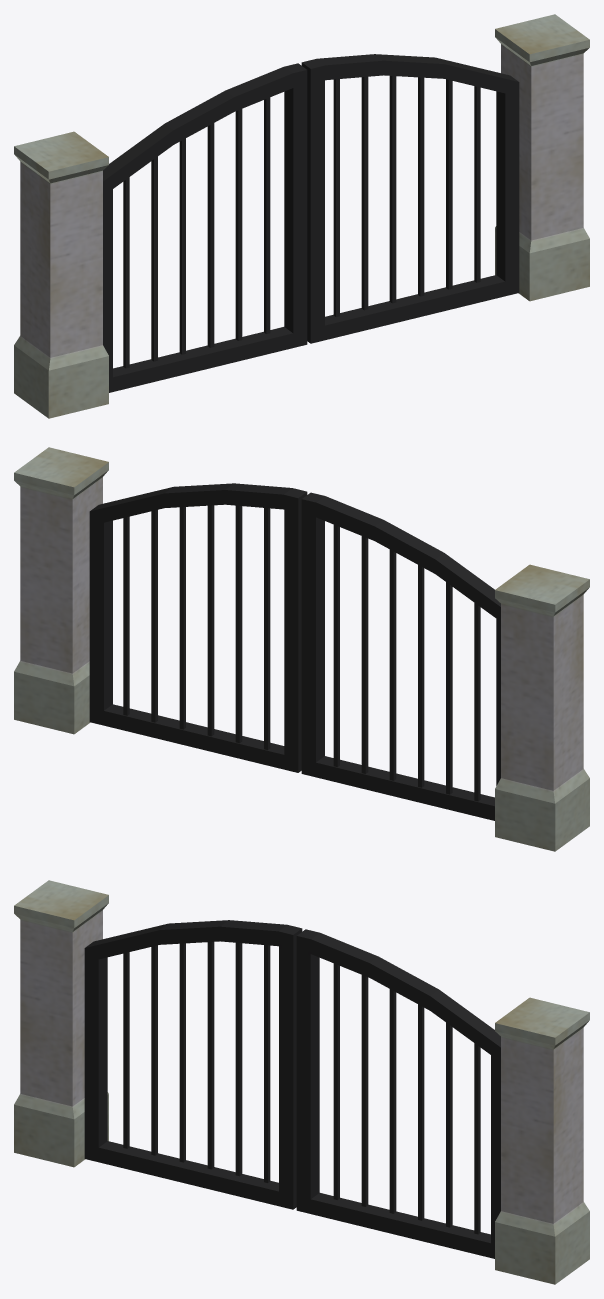
Rendered from gg_Gate.FBX.
The picture shows the model from 3 angles, top to bottom: view 1: azimuth 30°, elevation 25°; view 2: azimuth 150°, elevation 25°; view 3: azimuth 330°, elevation 25°; orthographic projection.
Visible parts, largest first — view 1: gg_Gate; view 2: gg_Gate; view 3: gg_Gate.
Boxes of the visible parts, x1=… form: gg_Gate: x1=14, y1=14, x2=589, y2=418; gg_Gate: x1=14, y1=447, x2=589, y2=851; gg_Gate: x1=14, y1=880, x2=589, y2=1284.
Bounding box in the file's own units: 413 × 201 × 46.
1 material, 1 textured.
